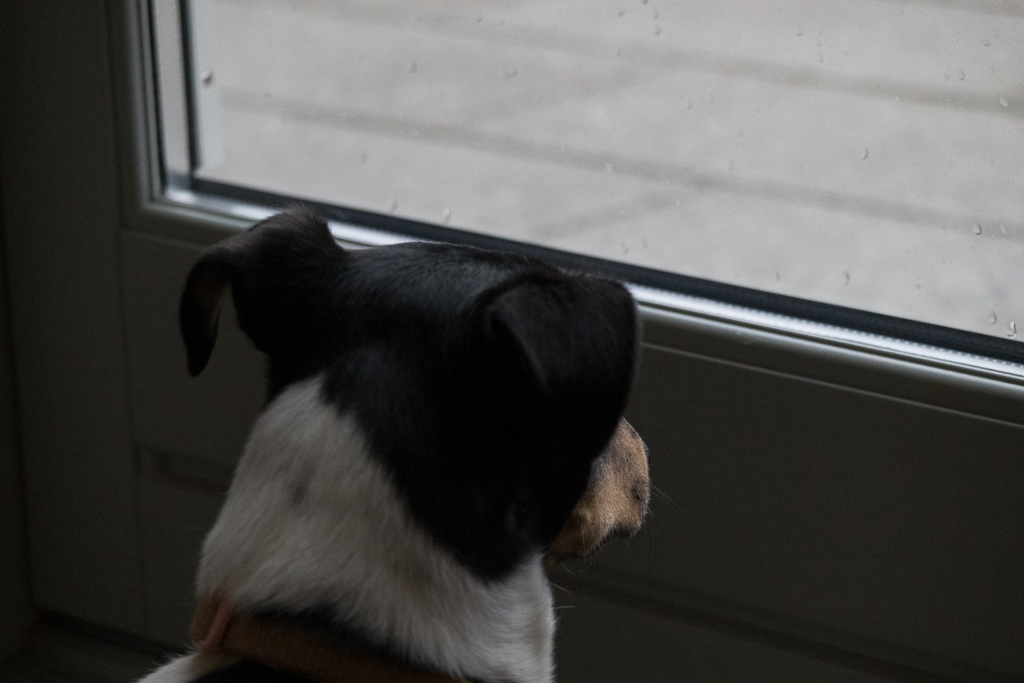Dog: (119, 180, 684, 683)
